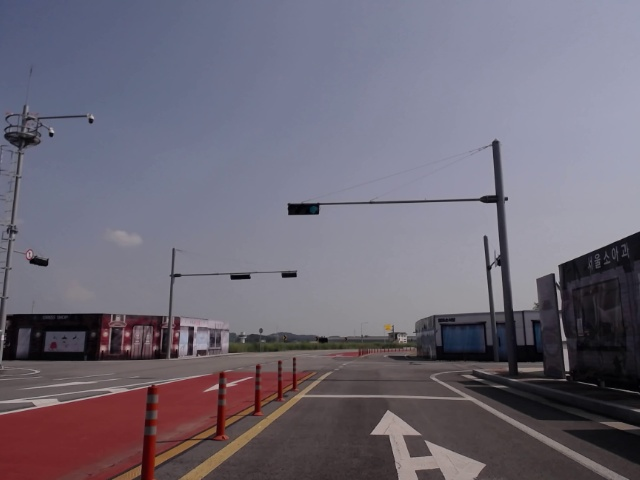green_3: (287, 204, 320, 215)
